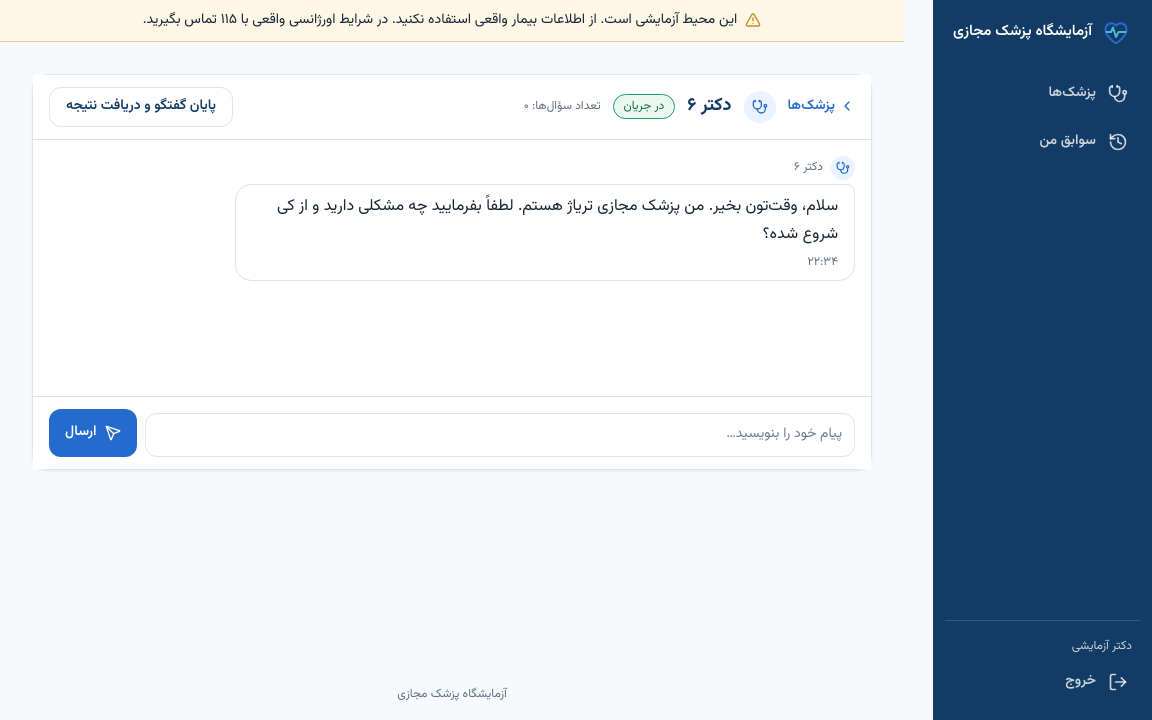
Test: slow-turn hint › is inside the typing bubble, hidden at 14.9 s and shown at 15 s
Expected: the text "تعداد سؤال‌ها: ۰" is shown, [524,97,601,116]
Type "درد دارم" into the text box labelled "پیام خود را بنویسید…".
click(500, 434); type("درد دارم")  # box [145,412,855,456]
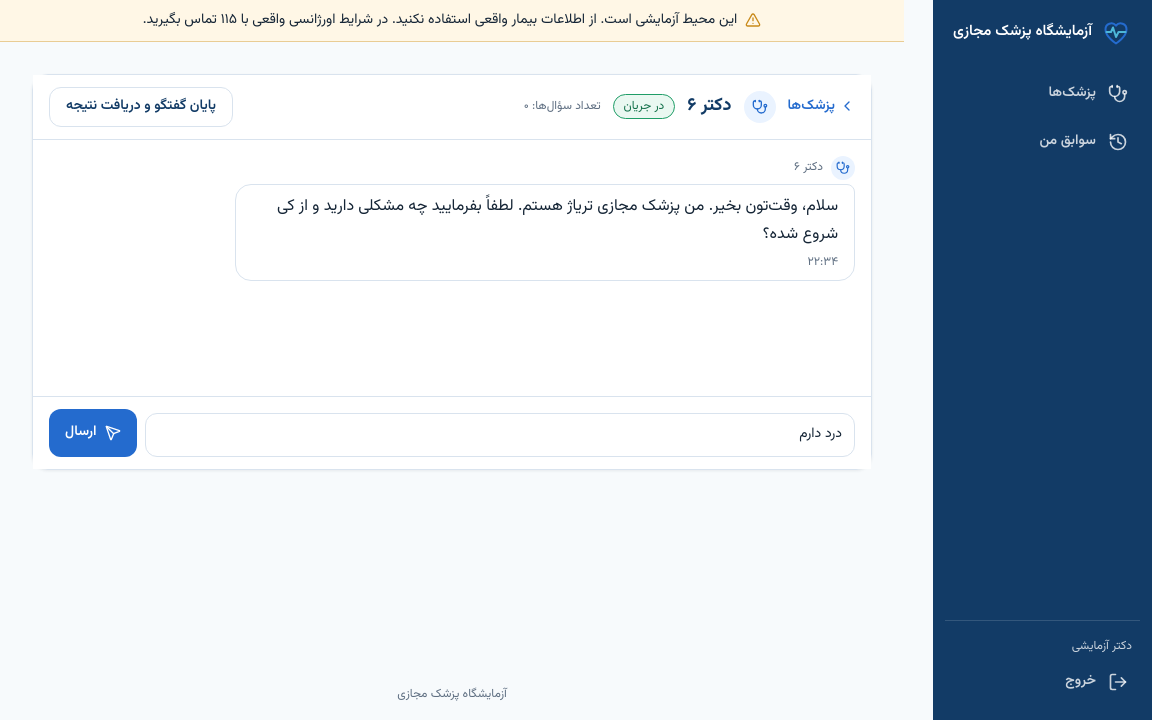
Click the button "ارسال".
click(93, 432)  # box [49,408,137,456]
Wait 15000 ms
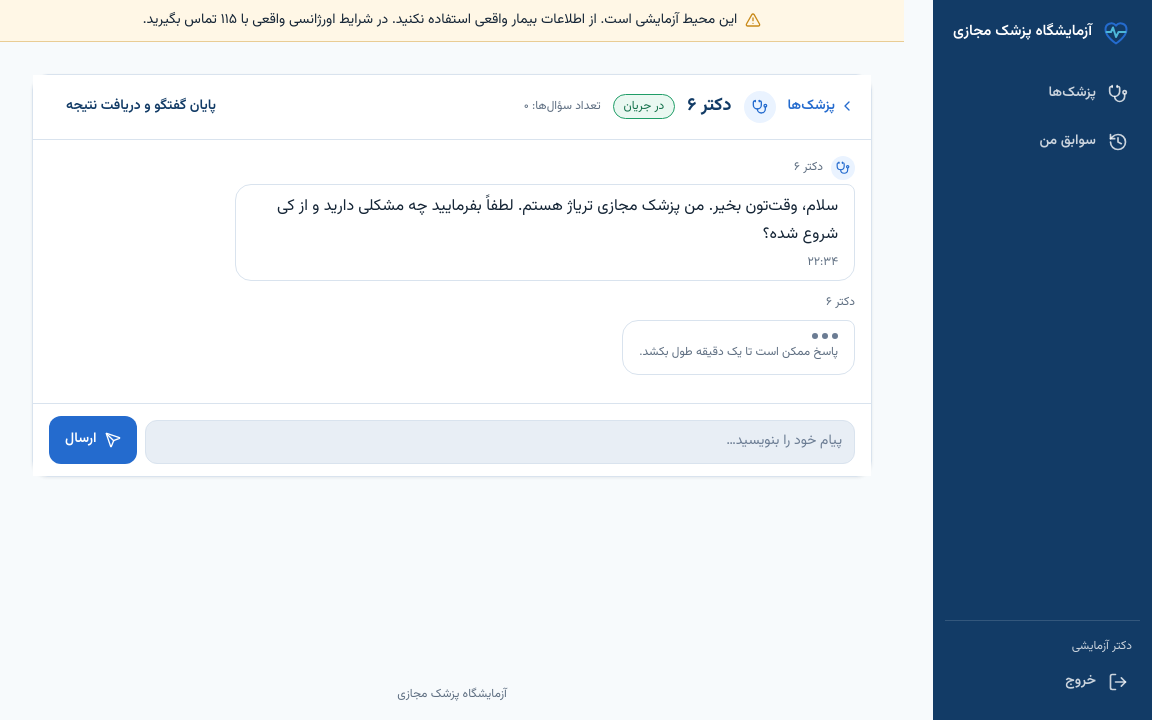
Now the text with test id "slow-turn-hint" reads "پاسخ ممکن است تا یک دقیقه طول بکشد.", box [639,343,838,361]
